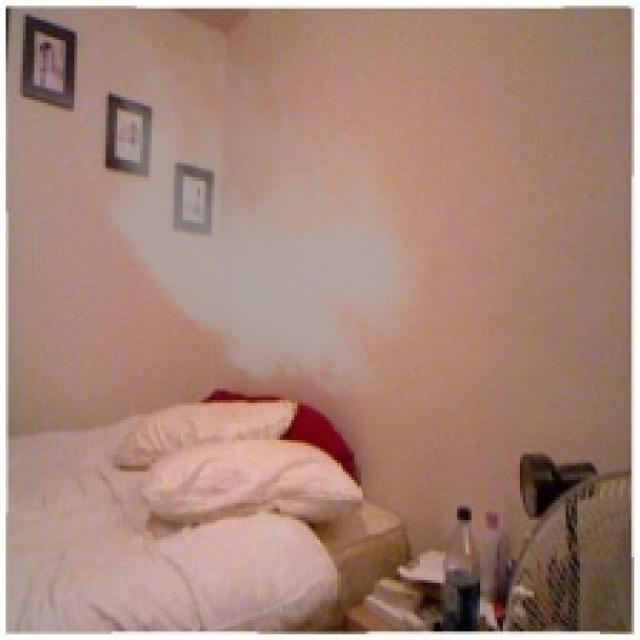smoke: (60, 9, 446, 412)
